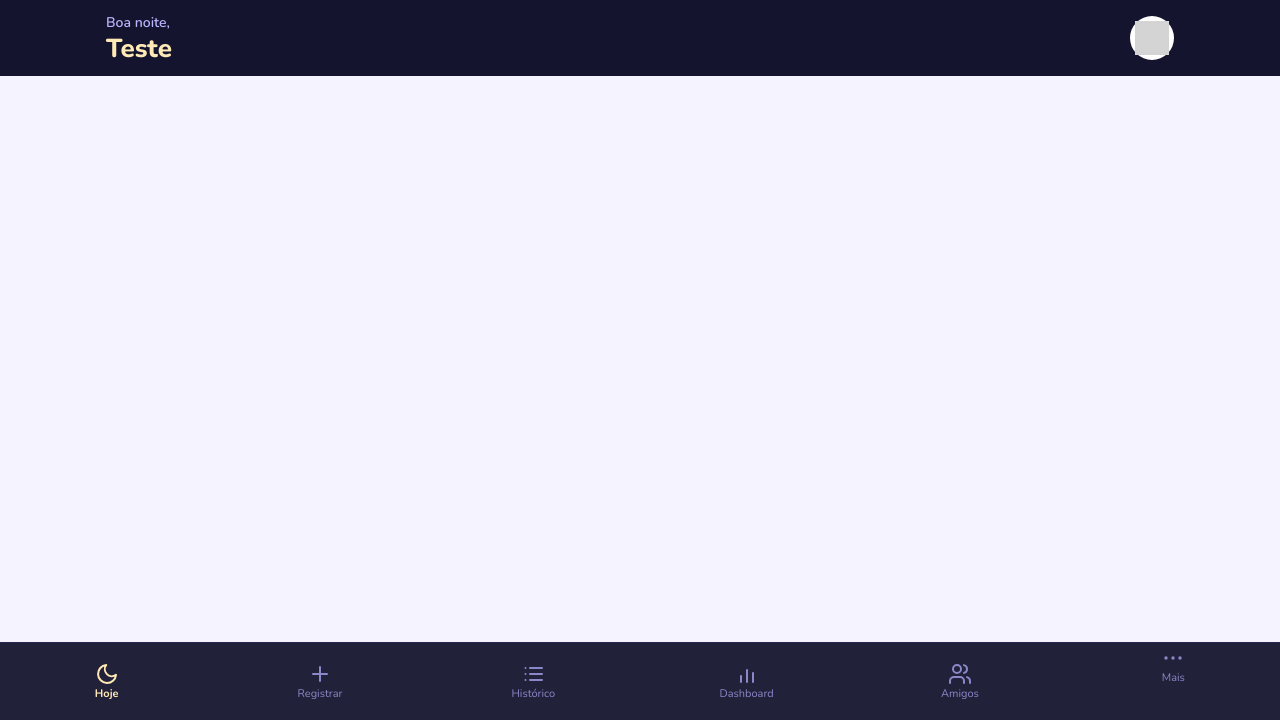
Scenario: Layout — navegação responsiva (issue #157) › o menu "Mais" abre Sons, Configurações e Sair e fecha ao escolher
This screenshot has width=1280, height=720.
Click the button with aria-label "Mais opções". click: point(1173, 665)
box: [1067,643,1279,687]
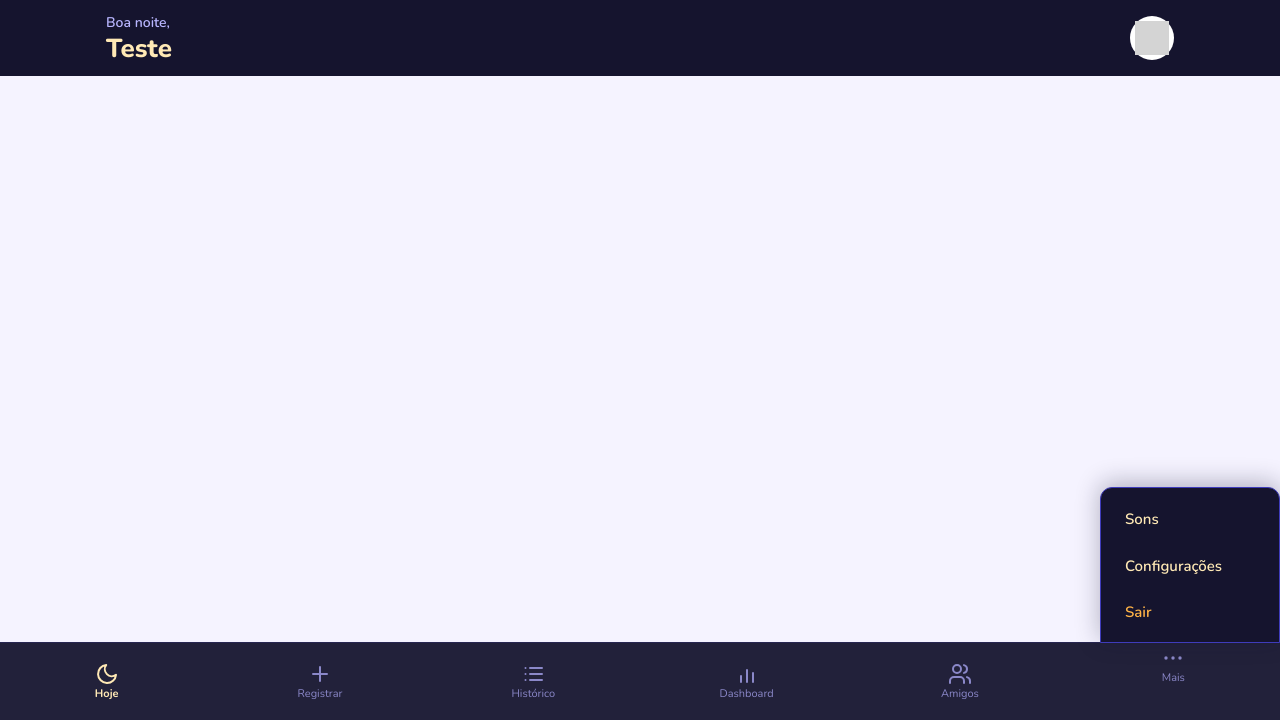
Expected: the menu item "Sons" is shown
Expected: the menu item "Configurações" is shown, [1125,556,1222,576]
Expected: the menu item "Sair" is shown, [1109,590,1271,634]
Click the menu item "Sons". click: point(1142, 518)
box: [1125,508,1159,528]
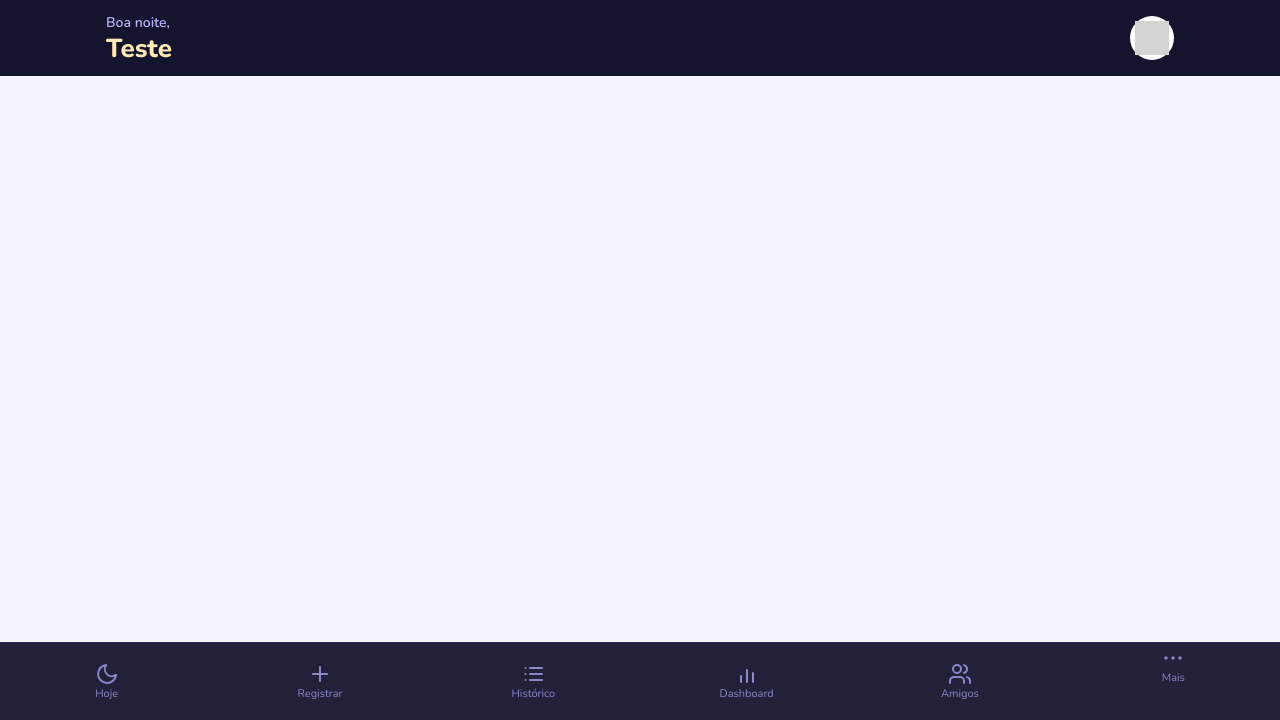
Expected: the menu is gone
